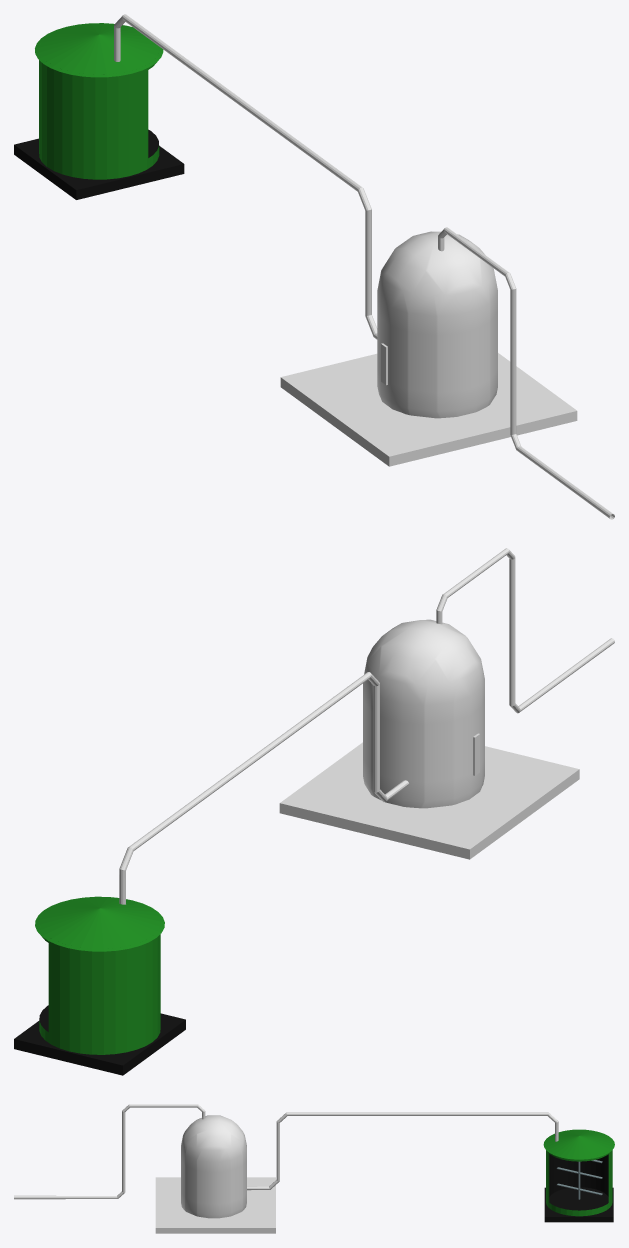
Rendered from gas-digester.fbx.
3 views of the same model, one above another, from view 1: azimuth 30°, elevation 25°; view 2: azimuth 150°, elevation 25°; view 3: azimuth 270°, elevation 25° (orthographic). The views are drawn at different scales.
Visible parts, largest first — view 1: Mball, Cube, Cube.002, Cube.001, Cube.004; view 2: Cube, Mball, Cube.002, Cube.001, Cube.004; view 3: Mball, Cube, Cube.002, Cube.001, Cube.004.
Boxes of the visible parts, x1,y1,x2,y2 form: Mball: (377, 231, 497, 418); Cube: (14, 23, 184, 199); Cube.002: (280, 353, 577, 466); Cube.001: (114, 14, 377, 339); Cube.004: (438, 227, 614, 519); Cube: (14, 896, 185, 1075); Mball: (363, 619, 484, 808); Cube.002: (279, 742, 579, 859); Cube.001: (119, 672, 408, 904); Cube.004: (436, 548, 614, 713); Mball: (181, 1115, 246, 1218); Cube: (543, 1129, 614, 1222); Cube.002: (155, 1177, 275, 1233); Cube.001: (247, 1112, 558, 1190); Cube.004: (14, 1104, 205, 1199).
Size of the model in its own units: 1400 by 1590 by 6989.
